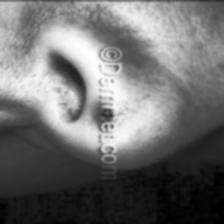Potentially Malignant Skin Tumors: (94, 108, 119, 124)
